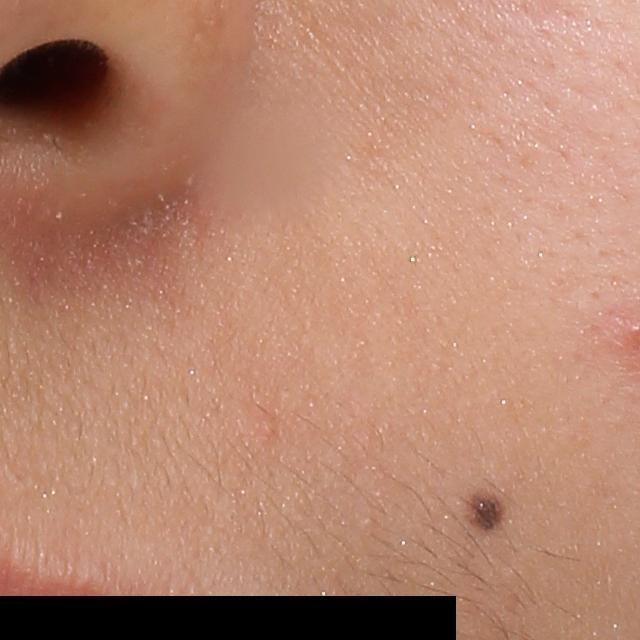nevus: (470, 490, 504, 533)
